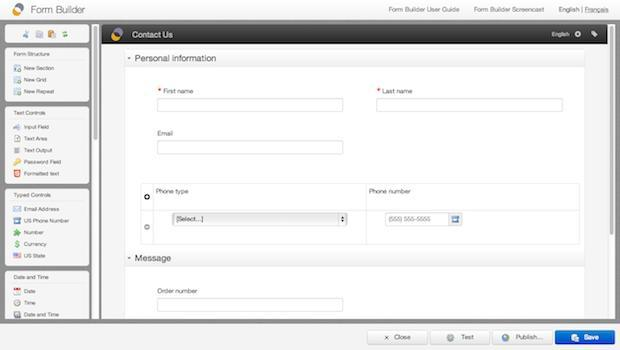button: (431, 330, 491, 347), (368, 331, 429, 346), (493, 331, 554, 346), (556, 331, 616, 345)
dropdown: (174, 213, 349, 228)
icon: (450, 213, 464, 228), (33, 29, 46, 40), (47, 29, 59, 40), (61, 29, 71, 40), (13, 205, 24, 215), (12, 252, 23, 262), (13, 64, 23, 74), (13, 76, 23, 86), (13, 88, 23, 98), (13, 229, 23, 239), (13, 299, 23, 309), (22, 29, 31, 40), (12, 217, 23, 226), (13, 123, 22, 133), (14, 158, 23, 168), (14, 169, 23, 179), (13, 311, 23, 320), (591, 30, 600, 39), (13, 288, 22, 297), (14, 136, 23, 144), (14, 147, 22, 156), (14, 241, 22, 250), (575, 31, 583, 39)
input: (376, 98, 564, 114), (158, 298, 344, 313), (158, 141, 343, 156), (157, 99, 344, 113), (386, 214, 450, 227)
label: (133, 51, 221, 67), (134, 254, 176, 267), (156, 287, 204, 297), (369, 187, 414, 197), (377, 86, 416, 97), (157, 87, 196, 97), (14, 191, 54, 200), (156, 188, 191, 198), (14, 51, 52, 60), (14, 109, 49, 118), (14, 274, 52, 282), (157, 129, 177, 139)
